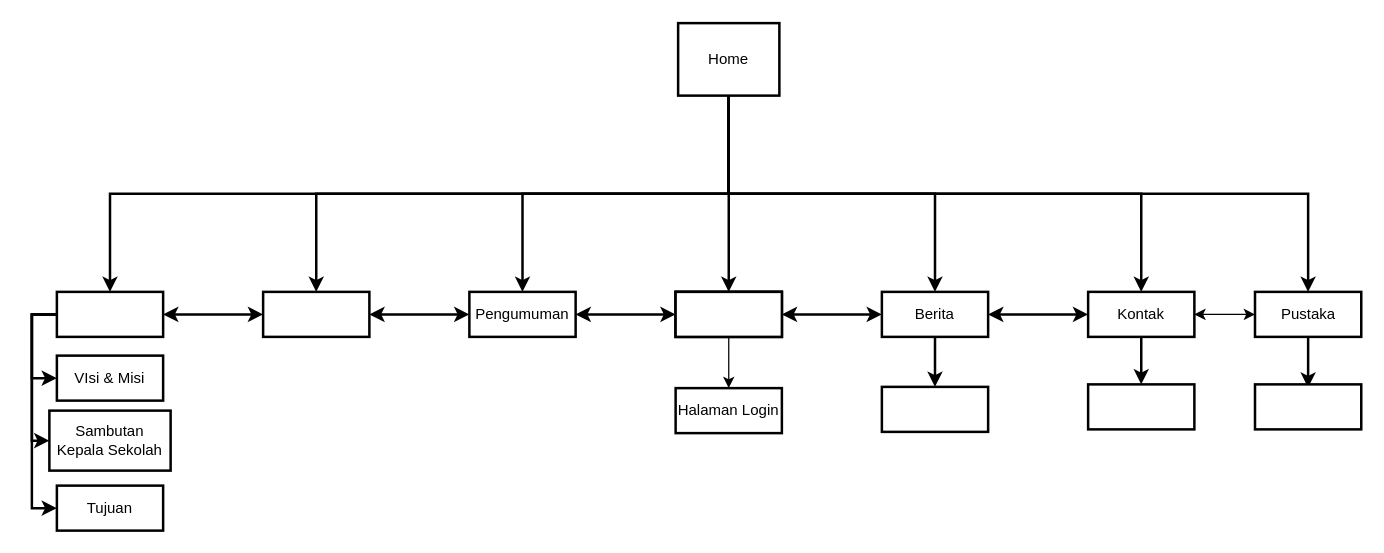
Image size: 1384x553. Some labels were removed from this diagram. The shapes that lost their labels are listed below. From the top down, each one's centre as x and y in pixels, then its label:
At point (109, 314): "Profile".
At point (315, 314): "Galery".
At point (728, 314): "Login".
At point (934, 408): "Detail".
At point (1140, 406): "Kirim Pesan".
At point (1307, 406): "Unduh".
